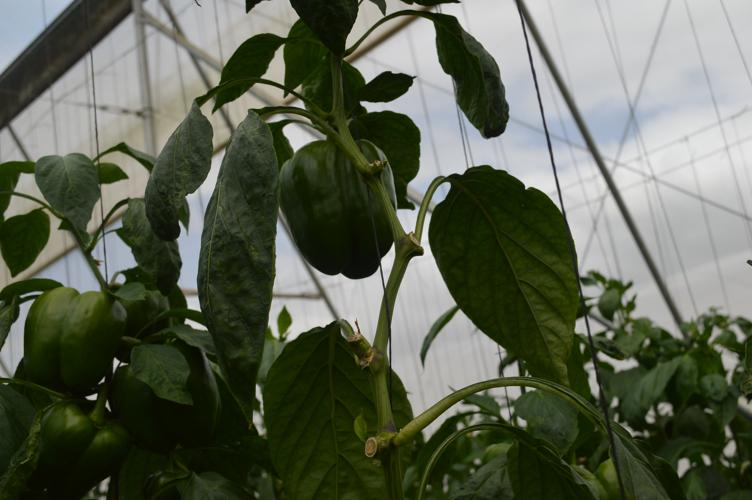BellPepper: (277, 141, 398, 282), (110, 349, 224, 450), (20, 287, 126, 391), (31, 402, 126, 496), (119, 288, 173, 346)
